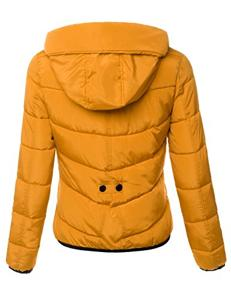C_jacket: (2, 20, 230, 281)
